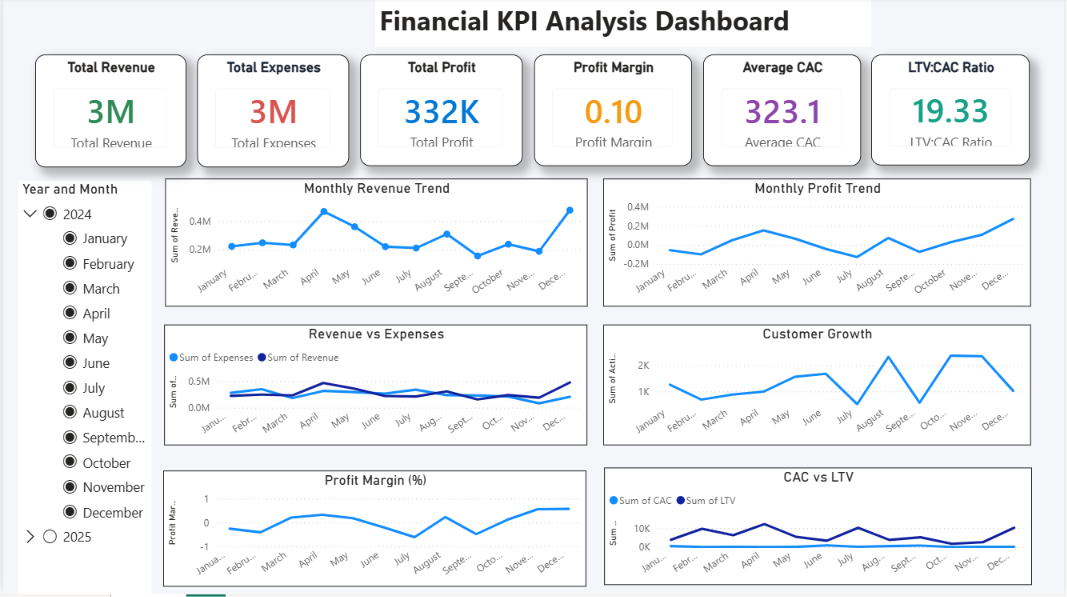

What the dashboard file says about the page in this screenshot:
{"tool":"powerbi","page":{"name":"Page 1","canvas":[1280,720],"ordinal":0},"visuals":[{"type":"cardVisual","title":"Total Revenue","fields":{"Data":["startup_financial_analysis.Total Revenue"]},"box":[38.4,68.6,182.1,135.8],"z":0,"group":"g2"},{"type":"cardVisual","title":"Total Expenses","fields":{"Data":["startup_financial_analysis.Total Expenses"]},"box":[234,68.6,183.5,135.8],"z":1000,"group":"g2"},{"type":"cardVisual","title":"Total Profit","fields":{"Data":["startup_financial_analysis.Total Profit"]},"box":[431,68.6,195.6,134.8],"z":2000,"group":"g2"},{"type":"cardVisual","title":"Profit Margin","fields":{"Data":["startup_financial_analysis.Profit Margin"]},"box":[640.1,68.6,190.2,134.8],"z":3000,"group":"g2"},{"type":"cardVisual","title":"Average CAC","fields":{"Data":["startup_financial_analysis.Average CAC"]},"box":[843.8,68.6,190.2,134.8],"z":4000,"group":"g2"},{"type":"cardVisual","title":"LTV:CAC Ratio","fields":{"Data":["startup_financial_analysis.LTV:CAC Ratio"]},"box":[1047.5,68.6,191.6,133.7],"z":5000,"group":"g2"},{"type":"lineChart","title":"Monthly Revenue Trend","fields":{"Category":["startup_financial_analysis.Month.Variation.Date Hierarchy.Month"],"Y":["Sum(startup_financial_analysis.Revenue)"]},"box":[194.9,218.2,509.4,154.2],"z":6000,"group":"g1"},{"type":"lineChart","title":"Revenue vs Expenses","fields":{"Category":["startup_financial_analysis.Month.Variation.Date Hierarchy.Month"],"Y":["Sum(startup_financial_analysis.Expenses)","Sum(startup_financial_analysis.Revenue)"]},"box":[193.6,393.8,510.8,145.6],"z":7000,"group":"g1"},{"type":"lineChart","title":"Monthly Profit Trend","fields":{"Category":["startup_financial_analysis.Month.Variation.Date Hierarchy.Month"],"Y":["Sum(startup_financial_analysis.Profit)"]},"box":[724.2,218.2,516.1,154.2],"z":8000,"group":"g1"},{"type":"lineChart","title":"Customer Growth","fields":{"Category":["startup_financial_analysis.Month.Variation.Date Hierarchy.Month"],"Y":["Sum(startup_financial_analysis.Active_Customers)"]},"box":[724.2,393.8,516.1,145.6],"z":9000,"group":"g1"},{"type":"lineChart","title":"Profit Margin (%)","fields":{"Category":["startup_financial_analysis.Month.Variation.Date Hierarchy.Month"],"Y":["startup_financial_analysis.Profit Margin"]},"box":[192.8,570.6,510.5,140],"z":10000,"group":"g1"},{"type":"lineChart","title":" CAC vs  LTV","fields":{"Category":["startup_financial_analysis.Month.Variation.Date Hierarchy.Month"],"Y":["Sum(startup_financial_analysis.CAC)","Sum(startup_financial_analysis.LTV)"]},"box":[724.5,566.9,516.1,141.4],"z":11000,"group":"g1"},{"type":"listSlicer","fields":{"Values":["startup_financial_analysis.Month.Variation.Date Hierarchy.Year","startup_financial_analysis.Month.Variation.Date Hierarchy.Month"]},"box":[17.8,220.9,160.5,499.5],"z":11001},{"type":"group","id":"g1","title":"Group 1","box":[192.8,218.2,1047.8,492.4],"z":11002},{"type":"group","id":"g2","title":"Group 2","box":[38.4,68.6,1200.7,135.8],"z":11003},{"type":"textbox","box":[448.7,0,598.3,59],"z":11005}]}

Visuals, with their boxes in screenshot pixels (x1, y1, x2, y2), scaled from the page's 1280x720 canvas onto the 1067x597 screenshot:
"Total Revenue" cardVisual: Rect(32, 57, 184, 169)
"Total Expenses" cardVisual: Rect(195, 57, 348, 169)
"Total Profit" cardVisual: Rect(359, 57, 522, 169)
"Profit Margin" cardVisual: Rect(534, 57, 692, 169)
"Average CAC" cardVisual: Rect(703, 57, 862, 169)
"LTV:CAC Ratio" cardVisual: Rect(873, 57, 1033, 168)
"Monthly Revenue Trend" lineChart: Rect(162, 181, 587, 309)
"Revenue vs Expenses" lineChart: Rect(161, 327, 587, 447)
"Monthly Profit Trend" lineChart: Rect(604, 181, 1034, 309)
"Customer Growth" lineChart: Rect(604, 327, 1034, 447)
"Profit Margin (%)" lineChart: Rect(161, 473, 586, 589)
" CAC vs  LTV" lineChart: Rect(604, 470, 1034, 587)
listSlicer - startup_financial_analysis.Month.Variation.Date Hierarchy.Year x startup_financial_analysis.Month.Variation.Date Hierarchy.Month: Rect(15, 183, 149, 596)
"Group 1" group: Rect(161, 181, 1034, 589)
"Group 2" group: Rect(32, 57, 1033, 169)
textbox: Rect(374, 0, 873, 49)
